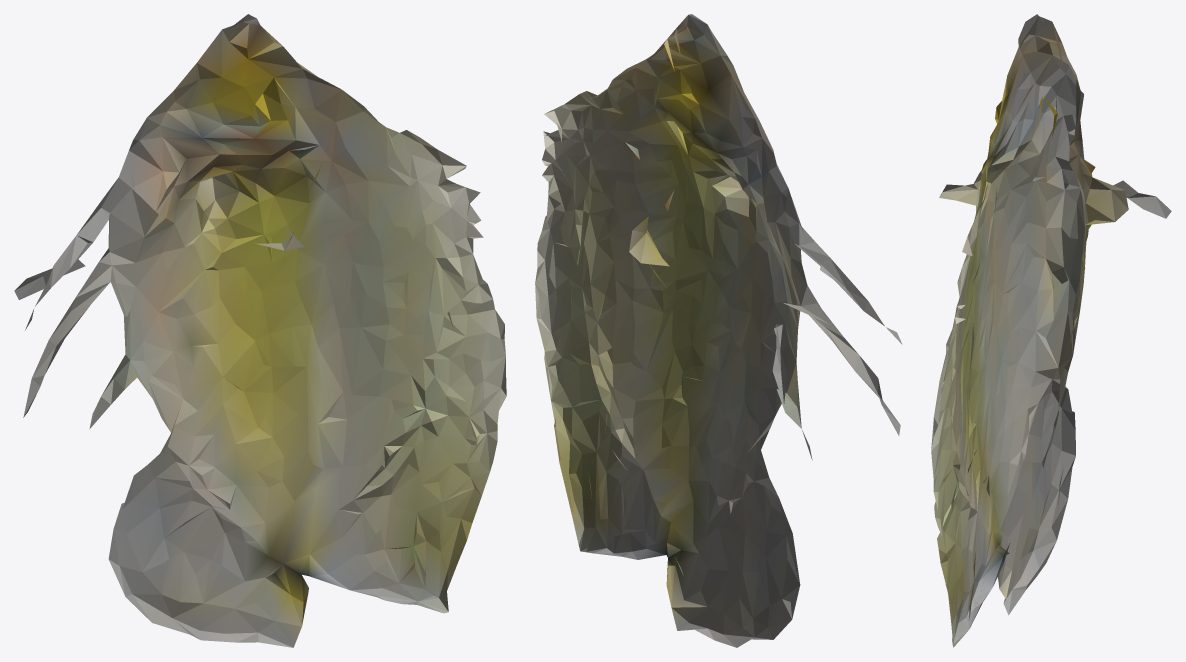
File: fish-angelfish.glb
3 renders of one model, left to right at view 1: azimuth 30°, elevation 25°; view 2: azimuth 150°, elevation 25°; view 3: azimuth 270°, elevation 25°, orthographic. The views are drawn at different scales.
Visible parts, largest first — view 1: world; view 2: world; view 3: world.
Part boxes in pixels (x1,y1,x2,y2): world: [14, 14, 506, 647]; world: [535, 14, 902, 647]; world: [931, 14, 1171, 647].
Size of the model in its own units: 0.7599 by 1.08 by 0.4013.
